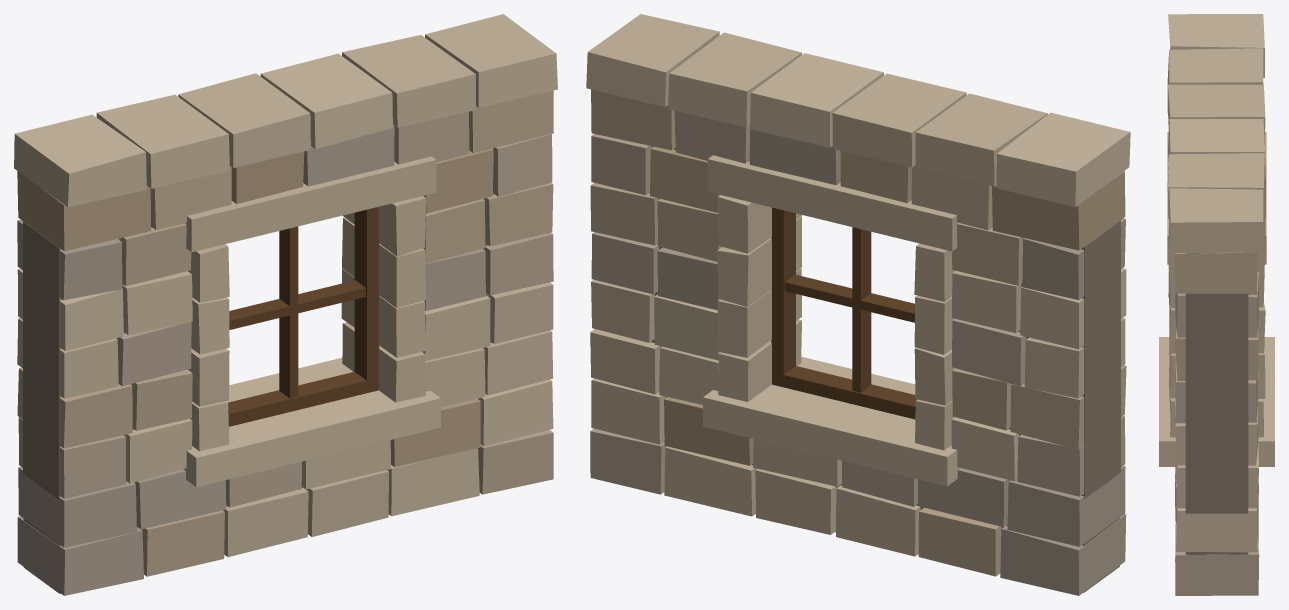
Rendered from wall_window.glb.
3 renders of one model, left to right at view 1: azimuth 30°, elevation 25°; view 2: azimuth 150°, elevation 25°; view 3: azimuth 270°, elevation 25°, orthographic. The views are drawn at different scales.
Parts seen in each view (by area): view 1: Window_Lintel.001; view 2: Window_Lintel.001; view 3: Window_Lintel.001.
Boxes of the visible parts, bbox=[...] form: Window_Lintel.001: bbox=[14, 14, 557, 595]; Window_Lintel.001: bbox=[586, 14, 1130, 595]; Window_Lintel.001: bbox=[1159, 14, 1274, 595].
Size of what is drawn, in the model's own units: 2.98 by 2.5 by 0.7.
